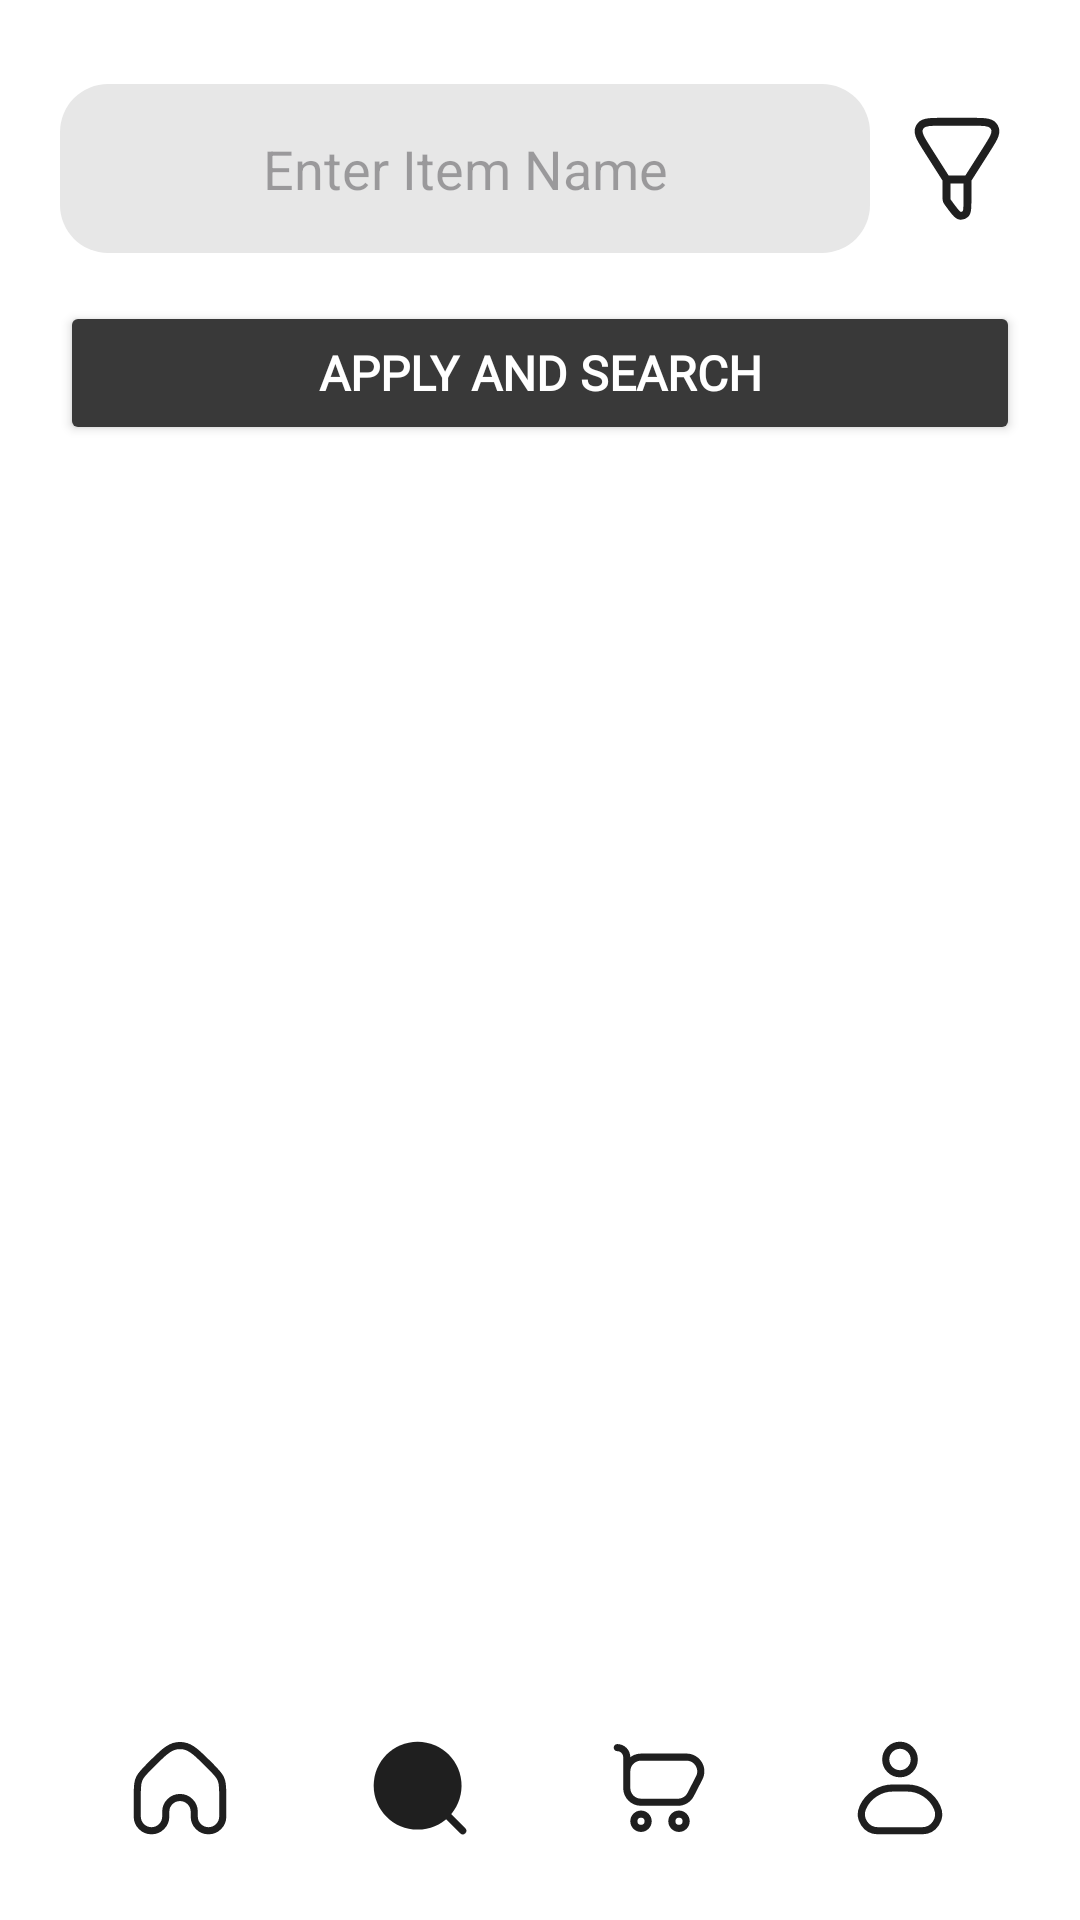

Point at icon controls on the screen. Image size 1080 × 1920, points as [x,y].
cart line: [659,1788]
filter line: [957,168]
home line: [180,1788]
search: [420,1788]
user line: [900,1788]
